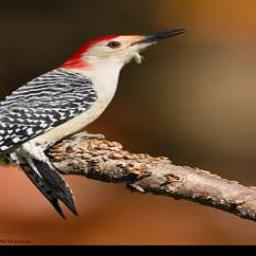Woodpecker: (0, 28, 187, 222)
